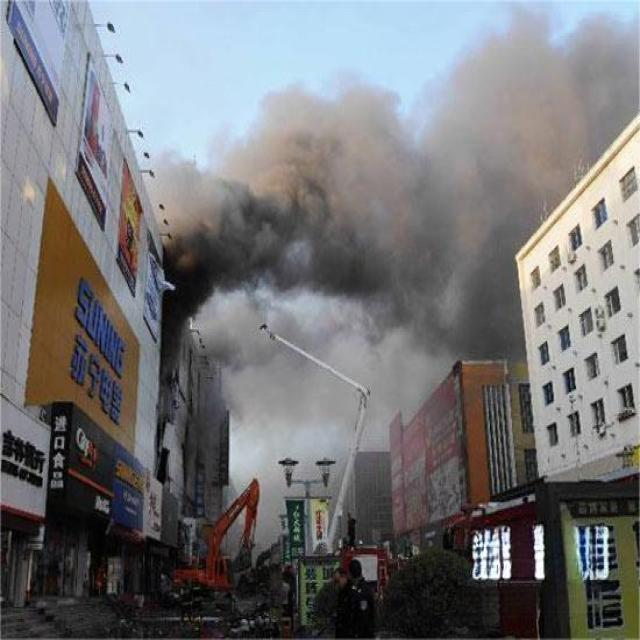Smoke: (148, 0, 640, 361)
